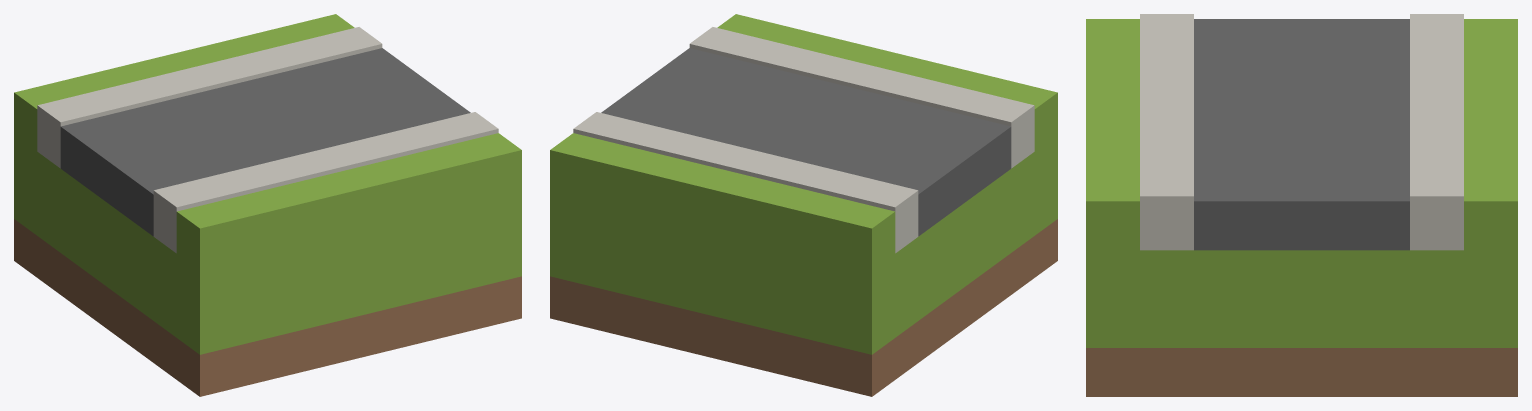
Rendered from road-straight-high.obj.
3 renders of one model, left to right at view 1: azimuth 30°, elevation 25°; view 2: azimuth 150°, elevation 25°; view 3: azimuth 270°, elevation 25°, orthographic. The views are drawn at different scales.
Visible parts, largest first — view 1: road-straight-high_Cube.272; view 2: road-straight-high_Cube.272; view 3: road-straight-high_Cube.272.
Boxes of the visible parts, left/top/right/bottom form: road-straight-high_Cube.272: left=14, top=14, right=521, bottom=396; road-straight-high_Cube.272: left=550, top=14, right=1057, bottom=396; road-straight-high_Cube.272: left=1086, top=14, right=1517, bottom=396.
Bounding box in the file's own units: 8 × 4.1 × 8.
1 material, 1 textured.
